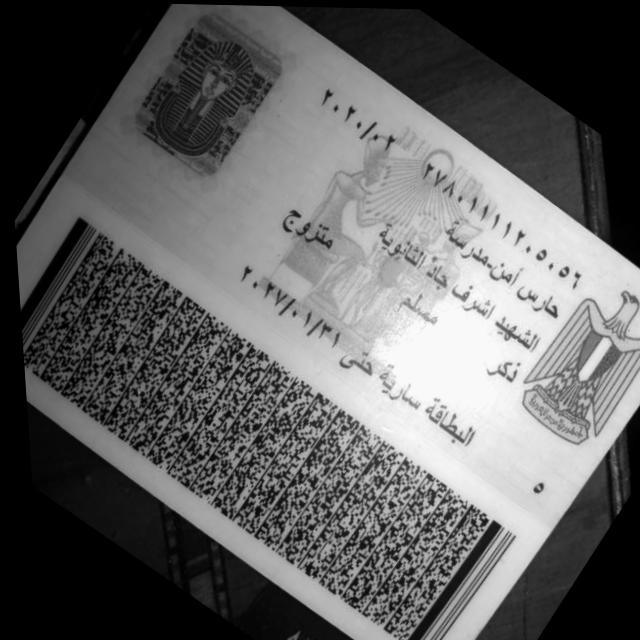back: (17, 4, 640, 640)
